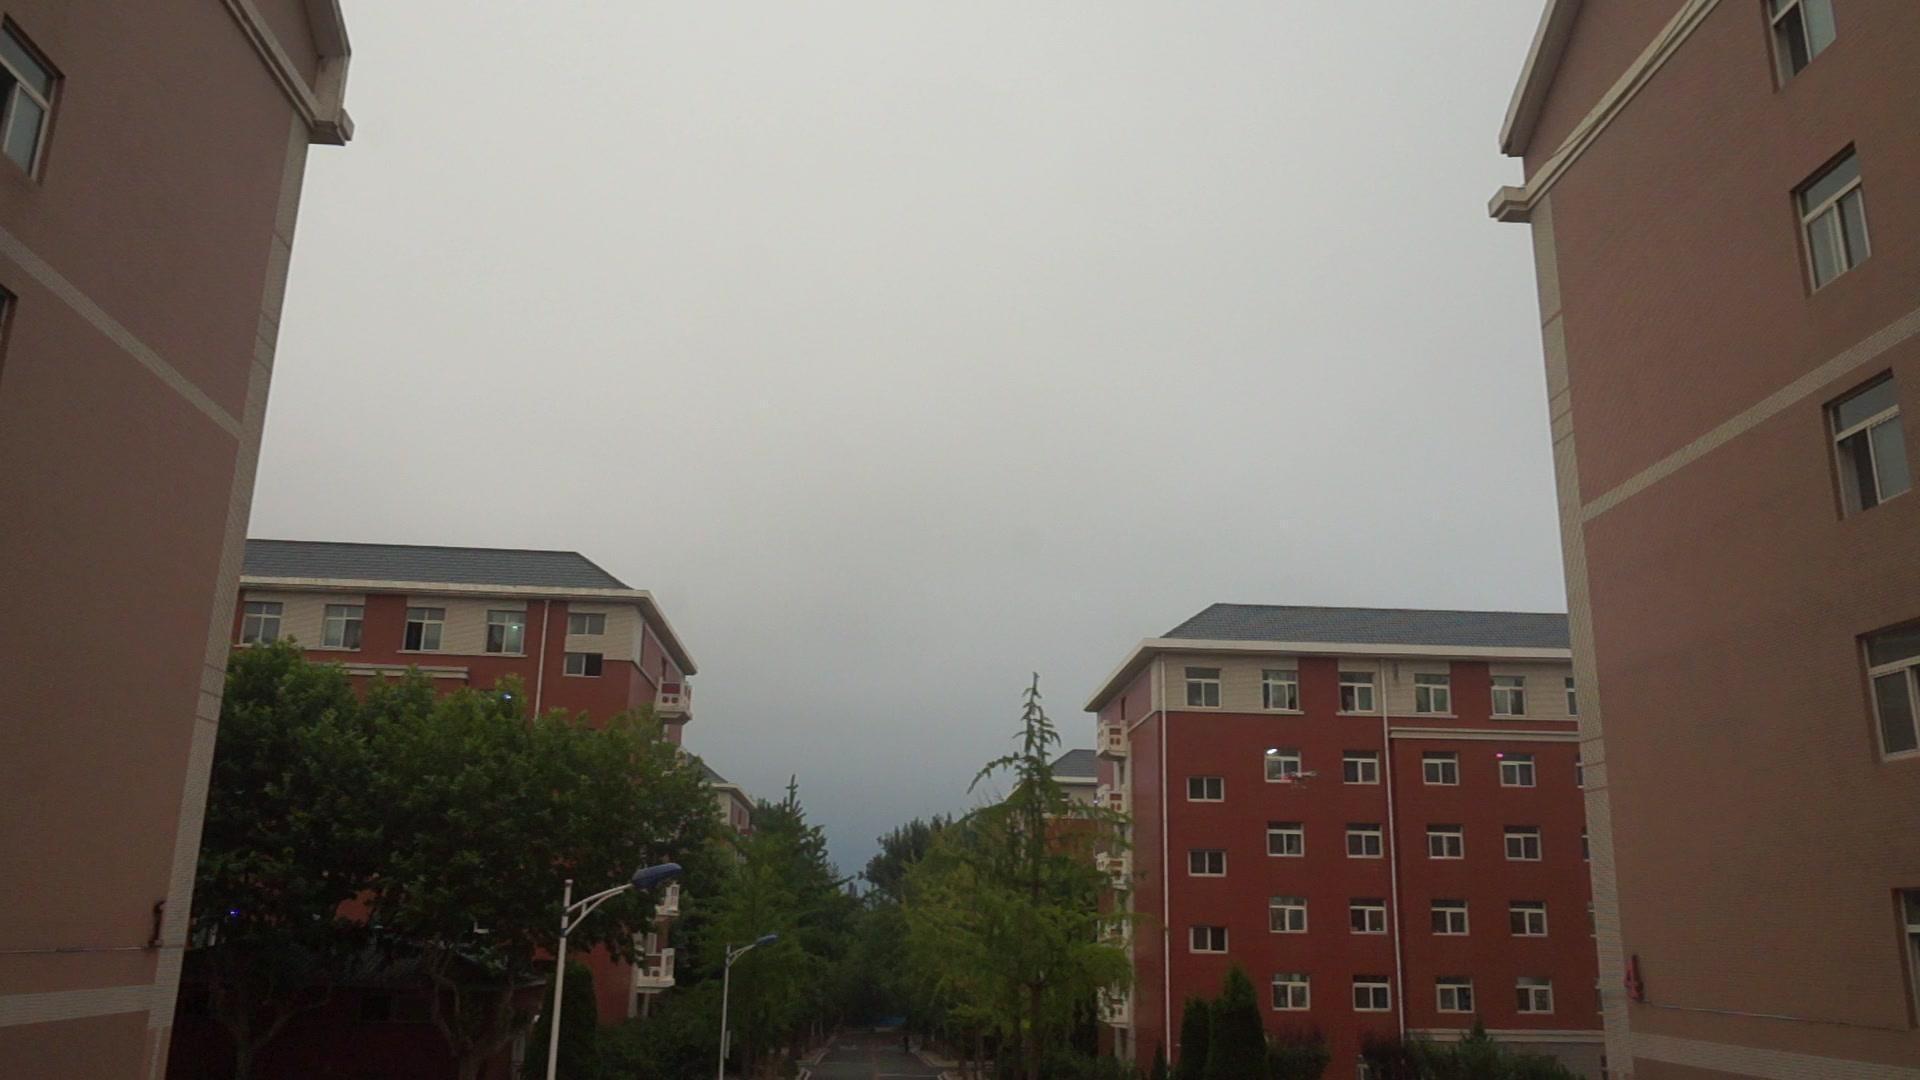UAV: (1276, 771, 1317, 790)
